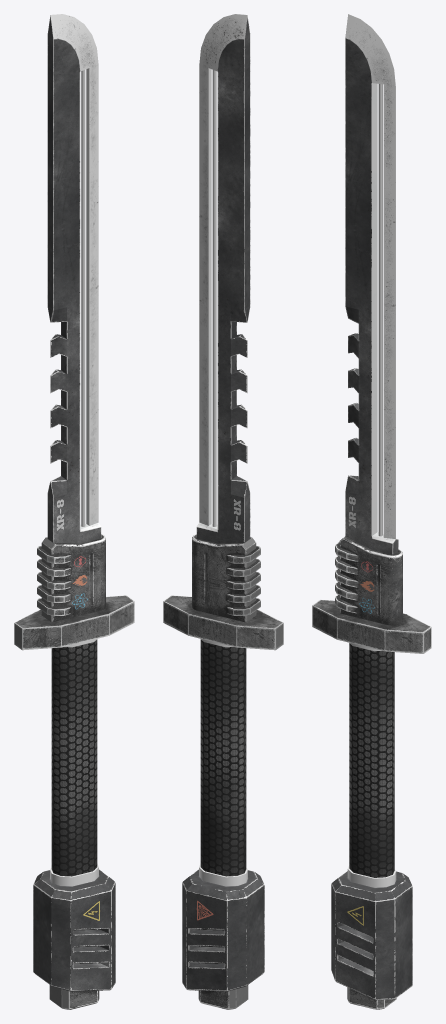
Rendered from Sword.fbx.
The picture shows the model from 3 angles, left to right: view 1: azimuth 30°, elevation 25°; view 2: azimuth 150°, elevation 25°; view 3: azimuth 330°, elevation 25°; orthographic projection.
Parts seen in each view (by area): view 1: Sword_XR-8; view 2: Sword_XR-8; view 3: Sword_XR-8.
Boxes of the visible parts, left/top/right/bottom form: Sword_XR-8: left=14, top=14, right=134, bottom=1009; Sword_XR-8: left=163, top=14, right=283, bottom=1009; Sword_XR-8: left=312, top=14, right=431, bottom=1009.
Size of the model in its own units: 17.8 by 150 by 9.23.
